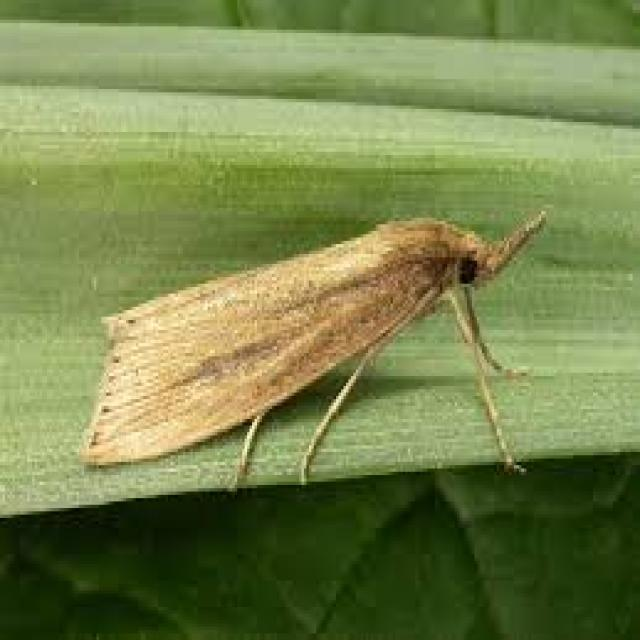yellow-stem-borer: (55, 185, 570, 478)
